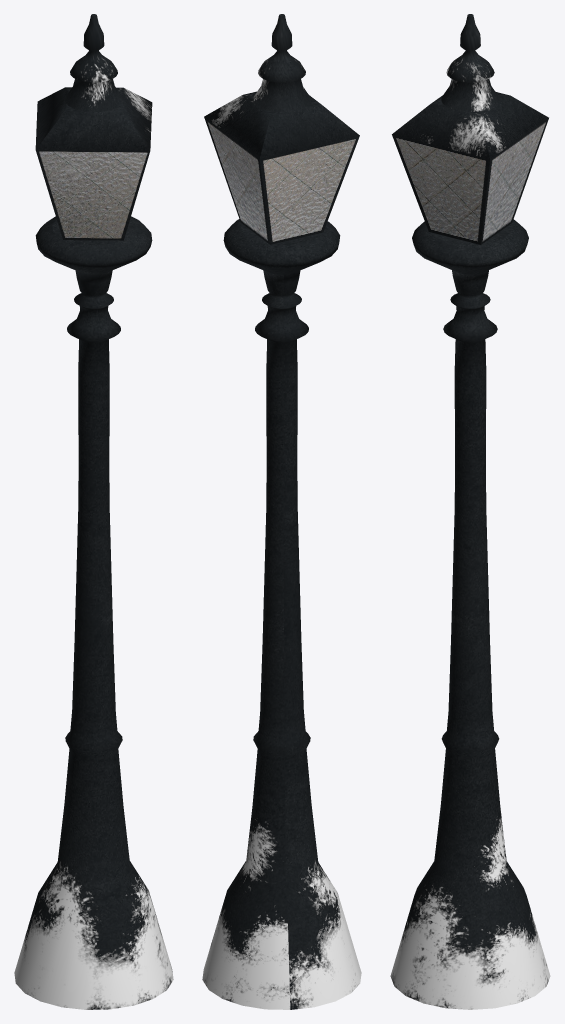
The model's file is Lamp Post.fbx.
The picture shows the model from 3 angles, left to right: view 1: azimuth 30°, elevation 25°; view 2: azimuth 150°, elevation 25°; view 3: azimuth 270°, elevation 25°; orthographic projection.
Parts seen in each view (by area): view 1: pCylinder3; view 2: pCylinder3; view 3: pCylinder3.
Boxes of the visible parts, bbox=[...] form: pCylinder3: bbox=[14, 14, 173, 1009]; pCylinder3: bbox=[202, 14, 361, 1009]; pCylinder3: bbox=[390, 14, 550, 1009].
Size of the model in its own units: 0.9237 by 6.12 by 0.9237.
